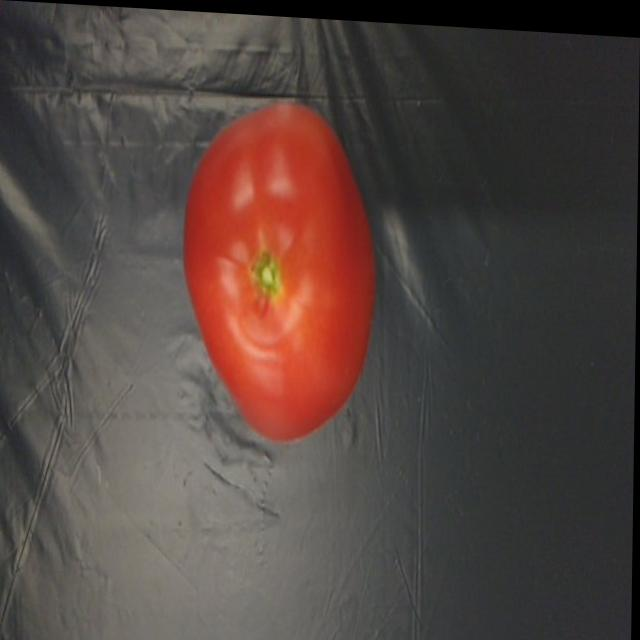kirmizi: (176, 100, 382, 450)
